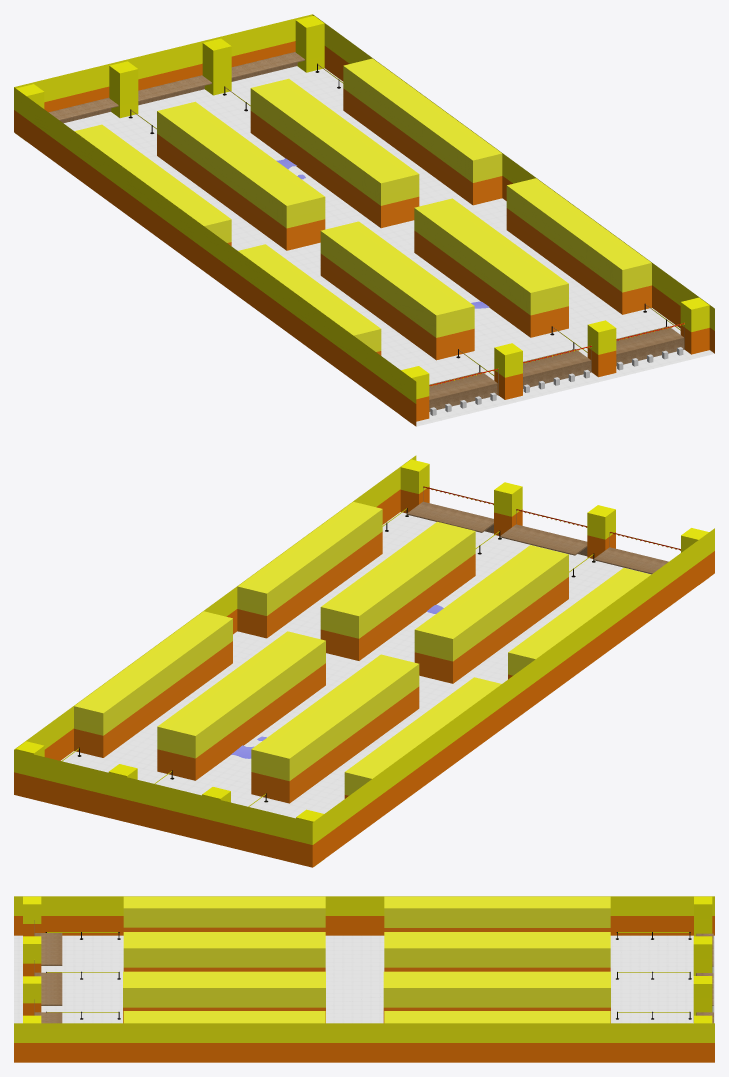
The model's file is coba map 1 padaank 1.fbx.
3 views of the same model, one above another, from view 1: azimuth 30°, elevation 25°; view 2: azimuth 150°, elevation 25°; view 3: azimuth 270°, elevation 25° (orthographic). The views are drawn at different scales.
Visible parts, largest first — view 1: Cube.023, Plane, Cube.022, Cube.031, Cube.020, Cube.001, Cube.003, Cube.005, Cube.007, Cube.006; view 2: Cube.023, Plane, Cube.022, Cube.001, Cube.003, Cube.020, Cube.031; view 3: Plane, Cube.023, Cube.031, Cube.022, Cube.001, Cube.020, Cylinder.001, Cylinder.002, Cube.003.
Boxes of the visible parts, x1,y1,x2,y2 form: Cube.023: [74, 58, 651, 360]; Plane: [14, 14, 714, 426]; Cube.022: [401, 297, 709, 421]; Cube.031: [15, 16, 324, 137]; Cube.020: [429, 368, 498, 411]; Cube.001: [523, 345, 591, 388]; Cube.003: [616, 323, 684, 366]; Cube.005: [138, 75, 211, 105]; Cube.007: [231, 52, 304, 81]; Cube.006: [49, 97, 118, 123]; Cube.023: [74, 501, 651, 803]; Plane: [14, 455, 714, 867]; Cube.022: [400, 459, 708, 584]; Cube.001: [500, 509, 587, 556]; Cube.003: [407, 486, 493, 533]; Cube.020: [593, 532, 680, 574]; Cube.031: [15, 741, 323, 862]; Plane: [14, 896, 714, 1062]; Cube.023: [123, 896, 610, 1023]; Cube.031: [693, 896, 712, 1023]; Cube.022: [23, 896, 41, 1023]; Cube.001: [34, 960, 62, 1005]; Cube.020: [34, 920, 62, 965]; Cylinder.001: [616, 932, 691, 1019]; Cylinder.002: [45, 932, 120, 1019]; Cube.003: [34, 999, 62, 1023].
Bounding box in the file's own units: 15209 × 2211 × 35461.
Materials: 3 (3 with a texture image).
